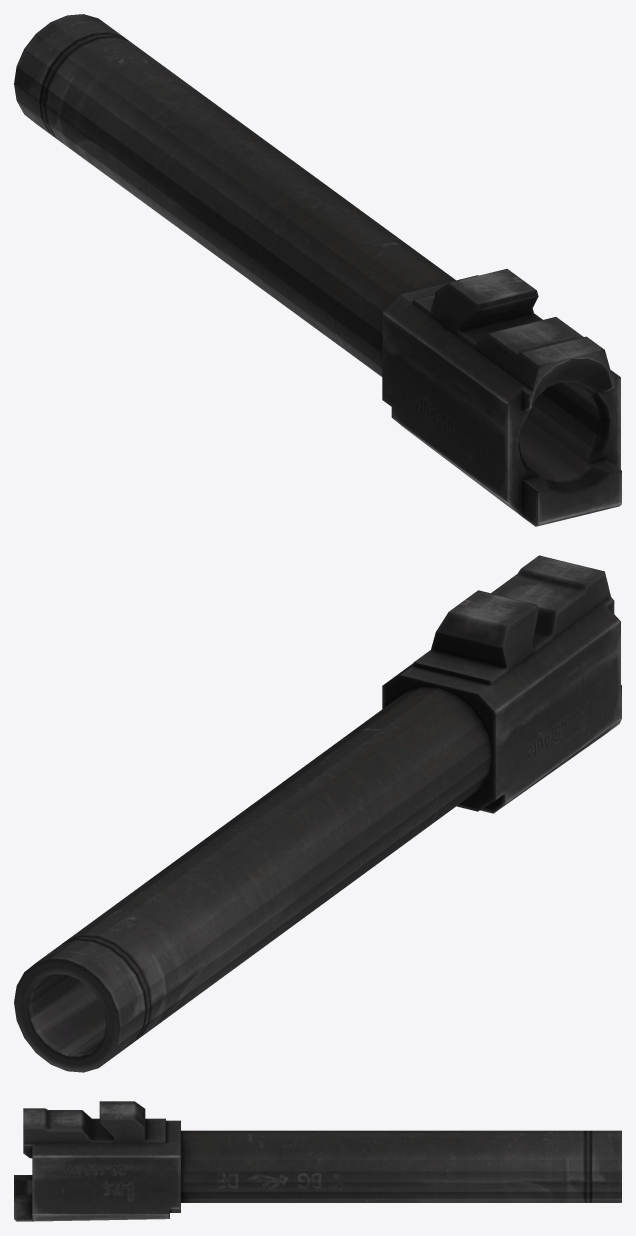
3 renders of one model, top to bottom at view 1: azimuth 30°, elevation 25°; view 2: azimuth 150°, elevation 25°; view 3: azimuth 270°, elevation 25°, orthographic. The views are drawn at different scales.
Parts seen in each view (by area): view 1: TW_6194eff92d2c397d6600348b_PZ_Import; view 2: TW_6194eff92d2c397d6600348b_PZ_Import; view 3: TW_6194eff92d2c397d6600348b_PZ_Import.
Boxes of the visible parts, x1,y1,x2,y2 form: TW_6194eff92d2c397d6600348b_PZ_Import: (14,14,621,526); TW_6194eff92d2c397d6600348b_PZ_Import: (14,555,621,1072); TW_6194eff92d2c397d6600348b_PZ_Import: (14,1101,621,1221).
Size of the model in its own units: 0.00973 by 0.0763 by 0.0138.
1 material, 1 textured.
